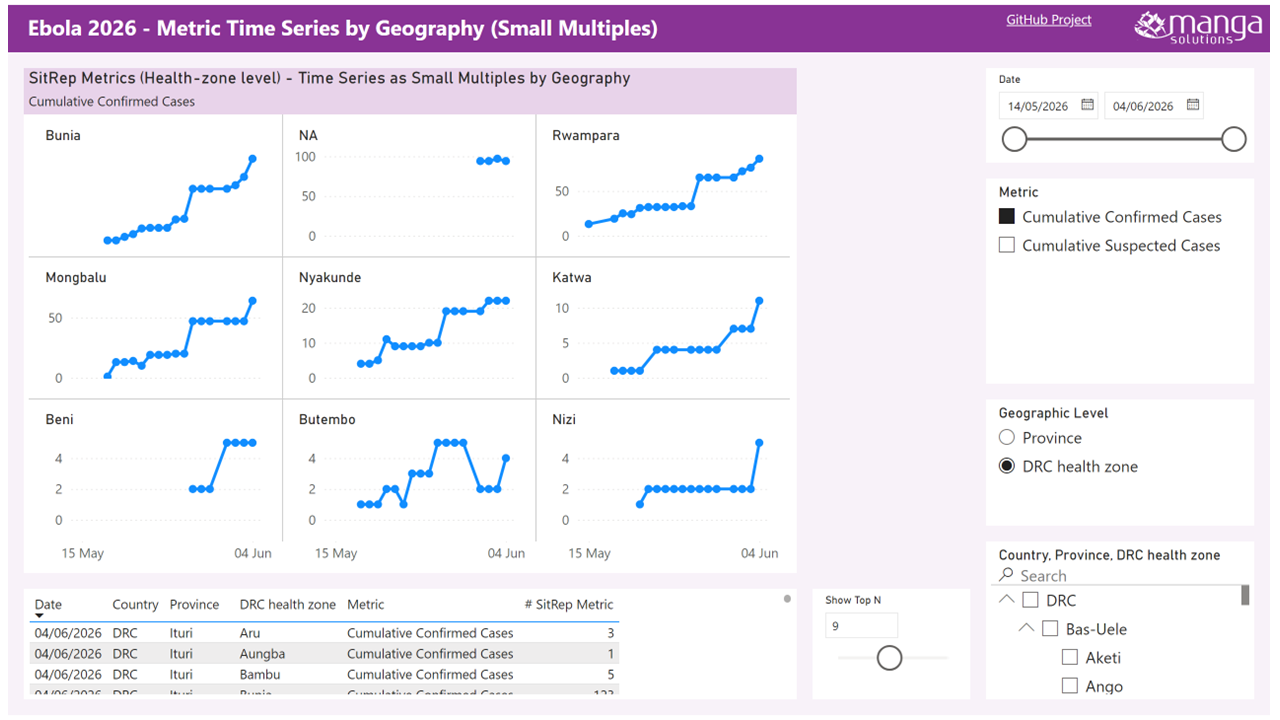

Layout of this report page (visuals, bound fields, positions):
{"tool":"powerbi","page":{"name":"Metric Time Series by Geography (Small Multiples)","canvas":[1280,720],"ordinal":2},"visuals":[{"type":"textbox","box":[0,0,1280,48],"z":0},{"type":"textbox","box":[992,0,112,32],"z":1000},{"type":"lineChart","title":"SitRep Metrics (Health-zone level) - Time Series as Small Multiples by Geography","fields":{"Category":["Dates.Date"],"Rows":["DRC Health Zones.DRC health zone"],"Y":["SitRep Metrics.# SitRep Metric"]},"box":[16,64,784,512],"z":2000},{"type":"slicer","fields":{"Values":["Dates.Date"]},"box":[992,64,272,96],"z":4000},{"type":"slicer","fields":{"Values":["SitRep Metrics.Metric"]},"box":[992,176,272,208],"z":5000},{"type":"tableEx","fields":{"Values":["Dates.Date","DRC Health Zones.Country","DRC Health Zones.Province","DRC_Health_zones.DRC health zone","SitRep Metrics.Metric","SitRep Metrics.# SitRep Metric"]},"box":[16,592,784,112],"z":6000},{"type":"slicer","fields":{"Values":["Parameter.Parameter"]},"box":[992,400,272,128],"z":7000},{"type":"slicer","fields":{"Values":["DRC Health Zones.Country","DRC Health Zones.Province","DRC Health Zones.DRC health zone"]},"box":[992,544,272,160],"z":8000},{"type":"slicer","fields":{"Values":["^ N.^ N"]},"box":[816,592,160,112],"z":9000},{"type":"image","box":[1136,0,144,48],"z":10000}]}

Visuals, with their boxes on the page's 1280x720 design canvas (x1, y1, x2, y2). These are canvas units, not pixel positions in the 1280x720 screenshot, which may show the page scaled, cropped or inside an application window:
textbox: (0,0,1280,48)
textbox: (992,0,1104,32)
"SitRep Metrics (Health-zone level) - Time Series as Small Multiples by Geography" lineChart: (16,64,800,576)
slicer - Dates.Date: (992,64,1264,160)
slicer - SitRep Metrics.Metric: (992,176,1264,384)
tableEx - Dates.Date x DRC Health Zones.Country: (16,592,800,704)
slicer - Parameter.Parameter: (992,400,1264,528)
slicer - DRC Health Zones.Country x DRC Health Zones.Province: (992,544,1264,704)
slicer - ^ N.^ N: (816,592,976,704)
image: (1136,0,1280,48)
